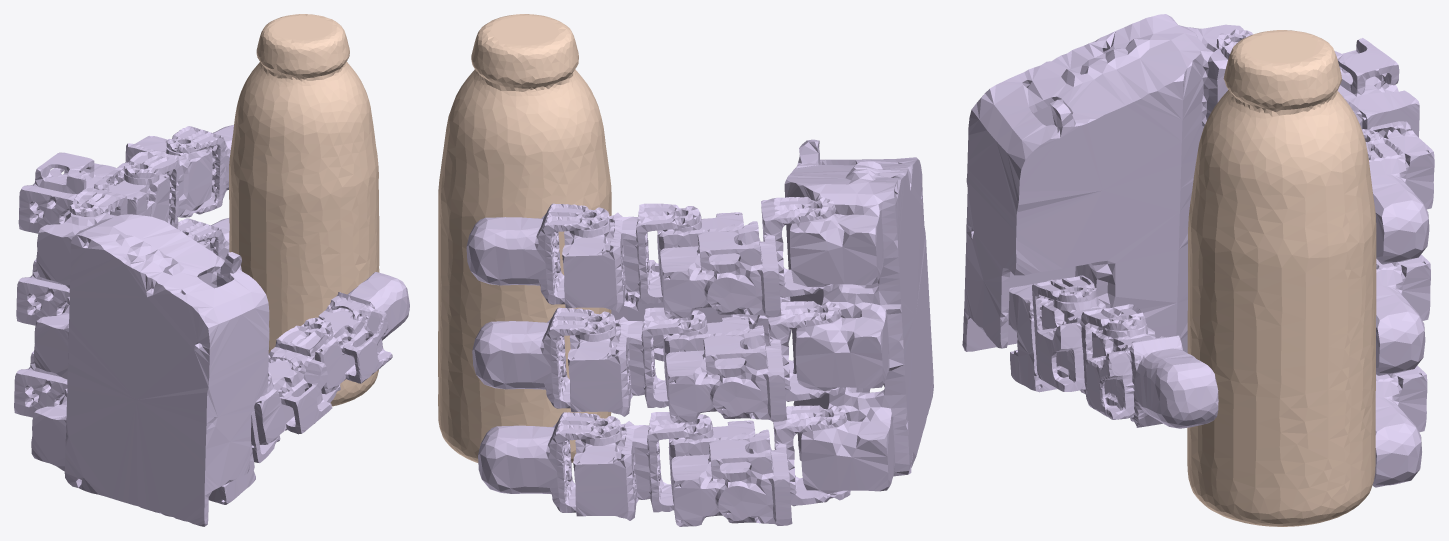
Rendered from df2995aab69436-closed.glb.
The picture shows the model from 3 angles, left to right: view 1: azimuth 30°, elevation 25°; view 2: azimuth 150°, elevation 25°; view 3: azimuth 270°, elevation 25°; orthographic projection. The views are drawn at different scales.
Parts seen in each view (by area): view 1: LEAP_hand, world; view 2: LEAP_hand, world; view 3: LEAP_hand, world.
Part boxes in pixels (bbox=[...]): LEAP_hand: bbox=[14, 125, 409, 526]; world: bbox=[229, 14, 379, 406]; LEAP_hand: bbox=[466, 139, 933, 526]; world: bbox=[438, 14, 611, 462]; LEAP_hand: bbox=[962, 14, 1434, 487]; world: bbox=[1187, 30, 1376, 526].
Size of the model in its own units: 0.1888 by 0.1841 by 0.1711.
